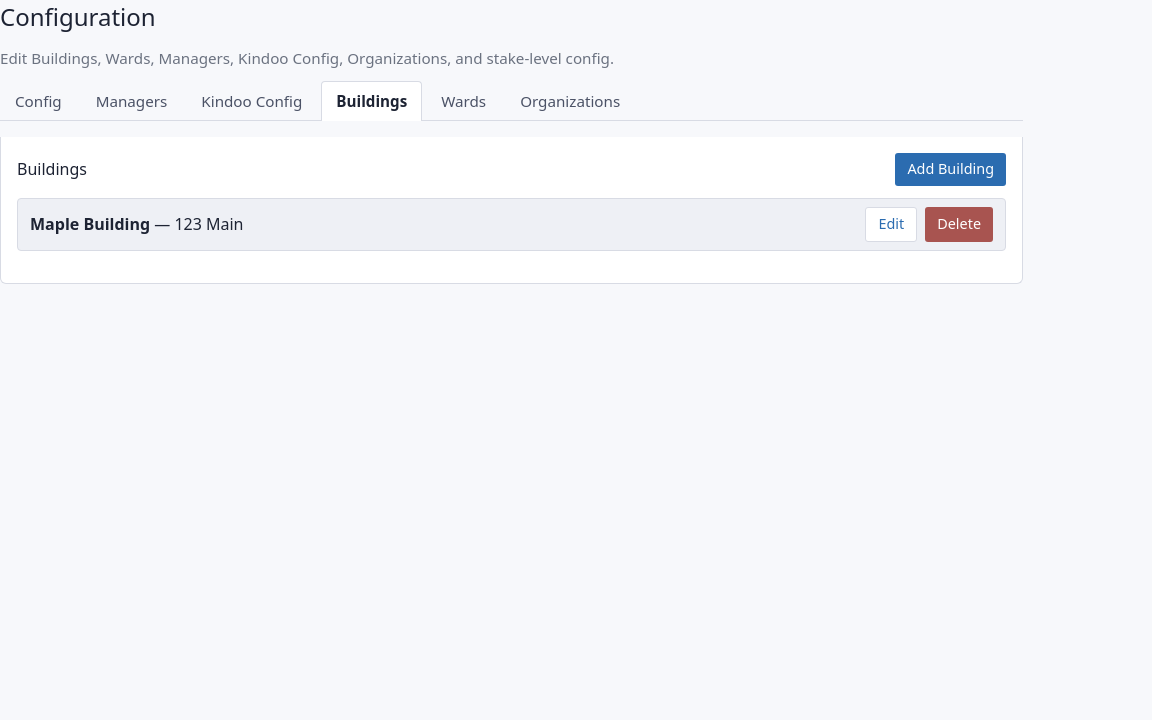
Scenario: <ConfigurationPage /> › renders an Edit button on each Building row; building_id is never shown in form
The image size is (1152, 720).
Click the button with test id "config-building-edit-maple-building" at (891, 224), box [866, 207, 917, 242]
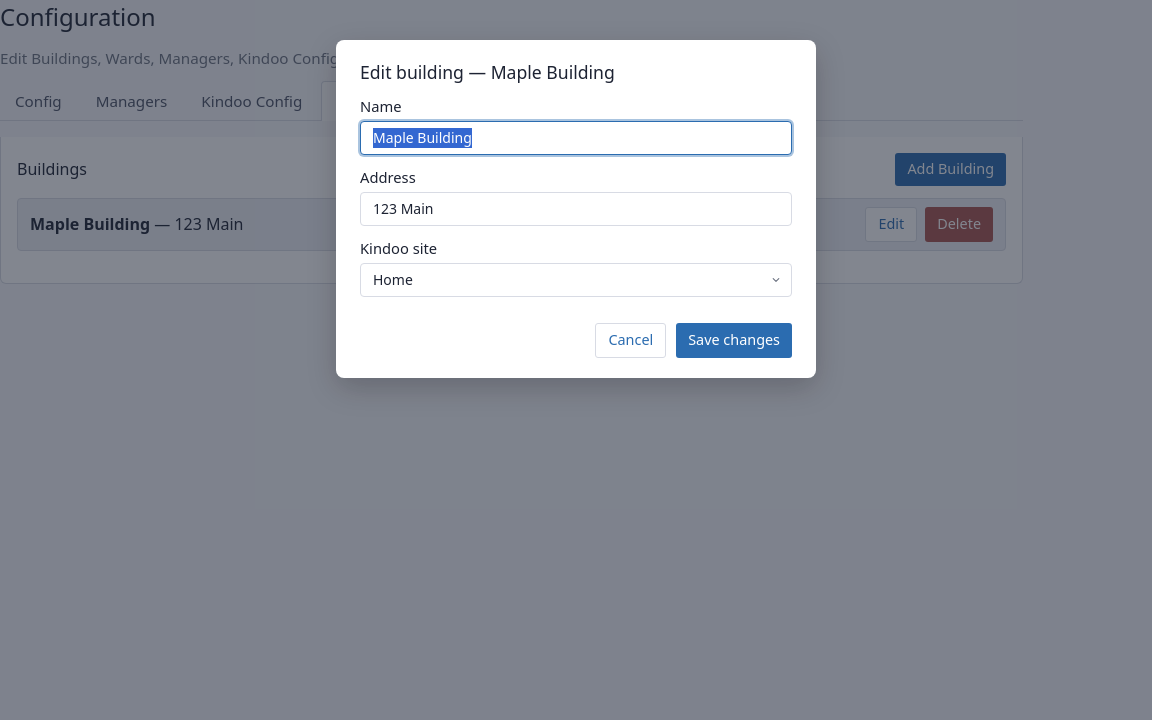
Expected: the field labelled "Name" holds "Maple Building", [360, 121, 792, 155]
